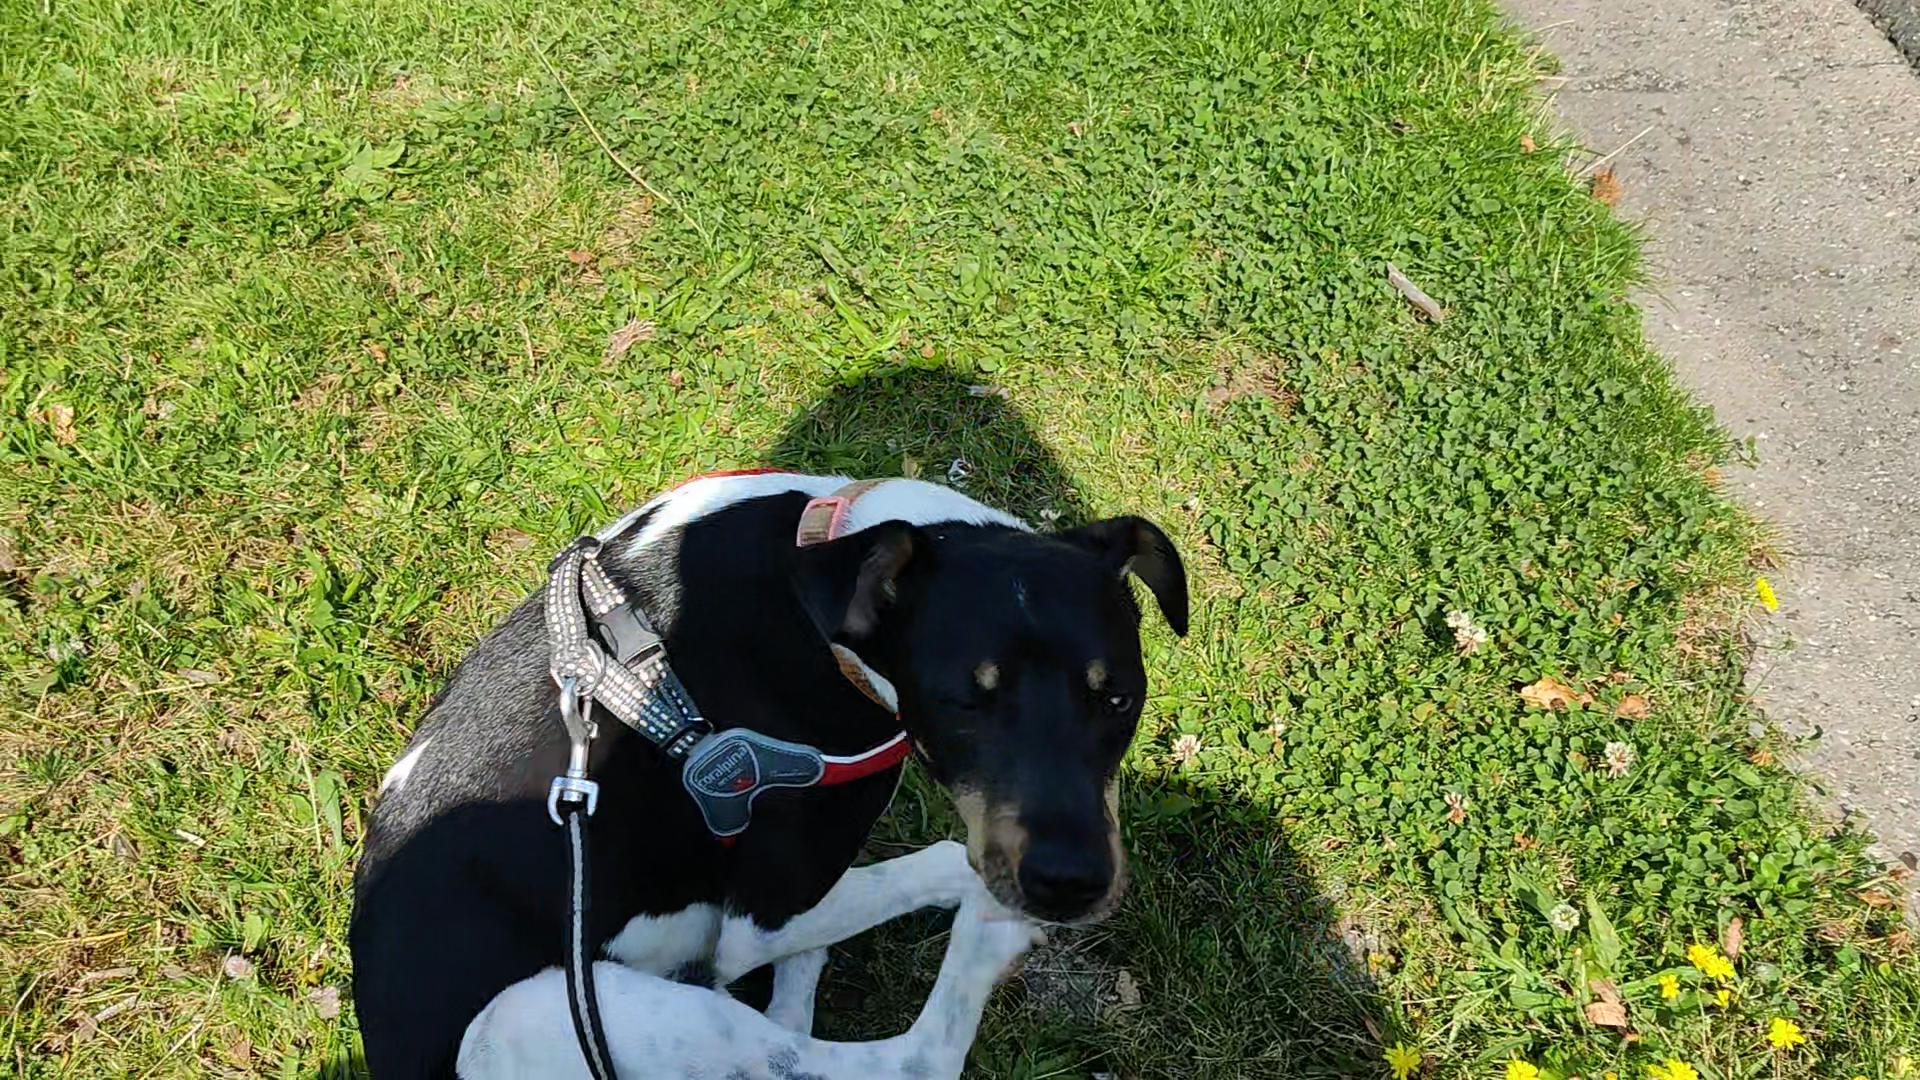Dog: (334, 455, 1189, 1079)
